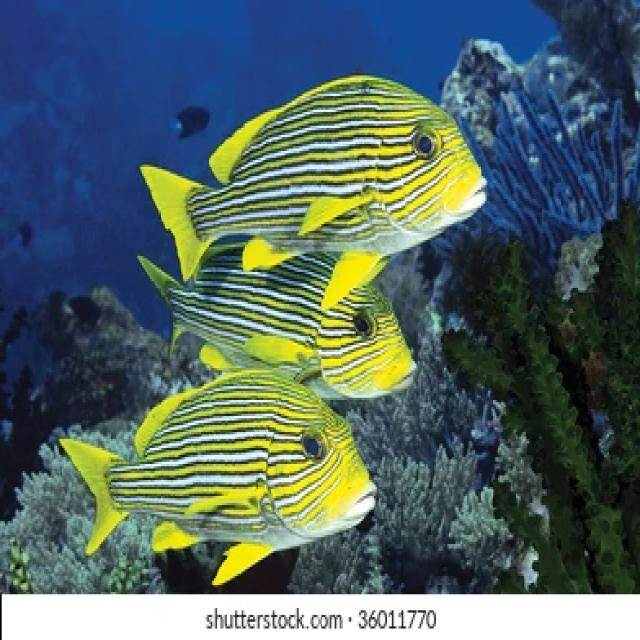RibbonedSweetlips: (140, 73, 489, 310), (56, 363, 377, 588), (137, 242, 417, 400)
